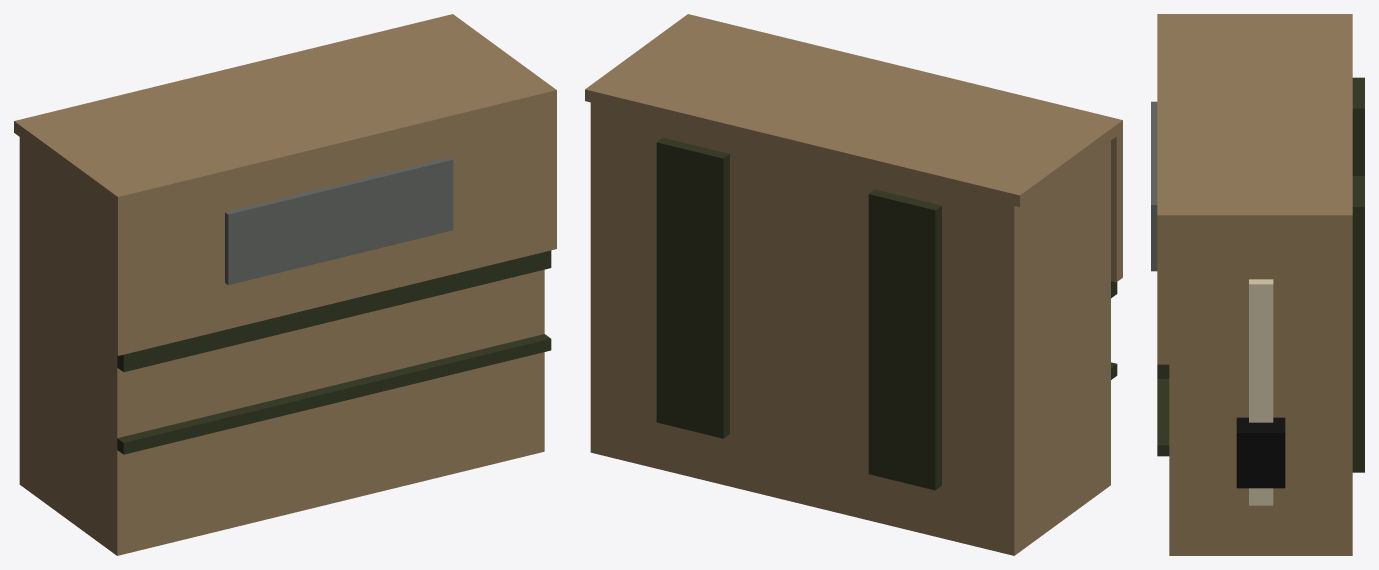
Rendered from dump_pouch.glb.
3 renders of one model, left to right at view 1: azimuth 30°, elevation 25°; view 2: azimuth 150°, elevation 25°; view 3: azimuth 270°, elevation 25°, orthographic. The views are drawn at different scales.
Parts seen in each view (by area): view 1: dump_pouch:compound; view 2: dump_pouch:compound; view 3: dump_pouch:compound.
Boxes of the visible parts, x1,y1,x2,y2 form: dump_pouch:compound: [14, 14, 556, 555]; dump_pouch:compound: [585, 14, 1122, 555]; dump_pouch:compound: [1151, 14, 1364, 555].
Bounding box in the file's own units: 0.166 × 0.124 × 0.07.
